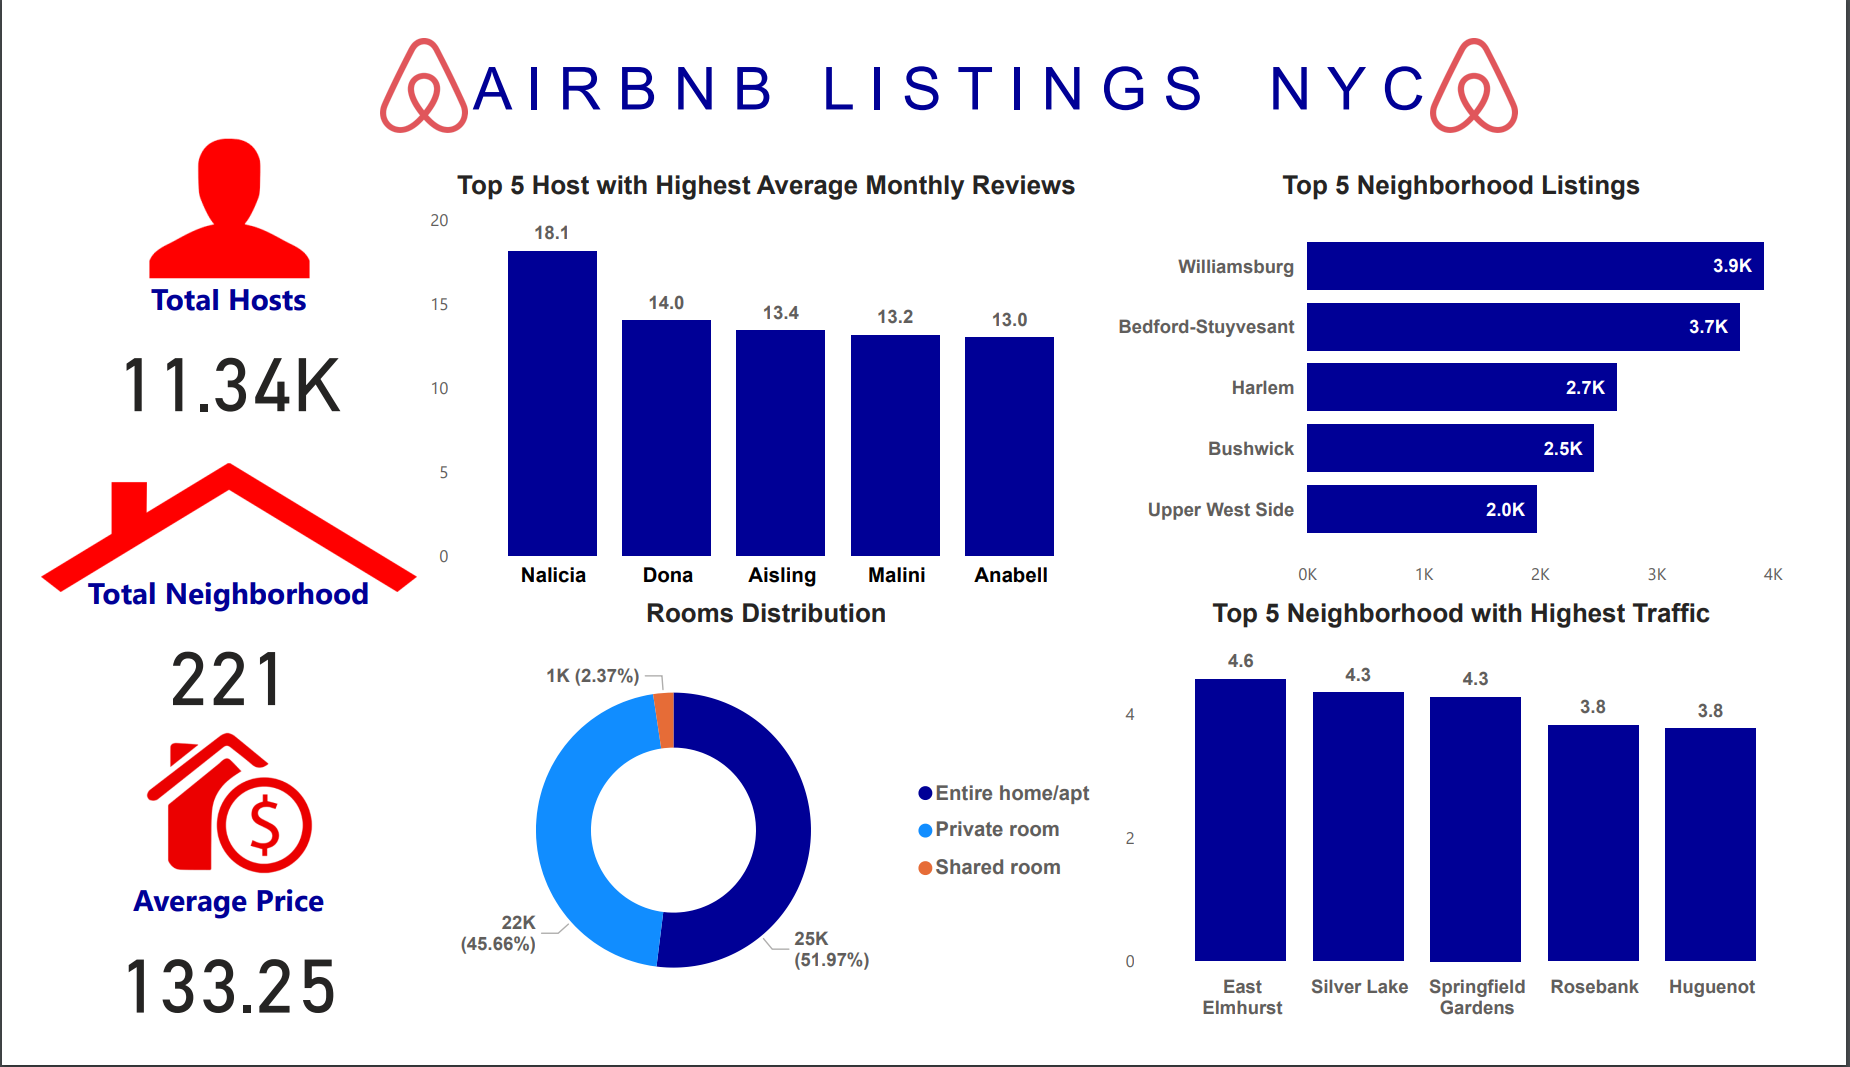

The page's visual inventory and layout, read from the dashboard file:
{"tool":"powerbi","page":{"name":"Page 1","canvas":[1280,720],"ordinal":0},"visuals":[{"type":"card","title":"Total Neighborhood","fields":{"Values":["neighbourhood_traffic.neighbourhood"]},"box":[0,389.3,279.9,109.8],"z":0},{"type":"card","title":"Average Price","fields":{"Values":["Area_info.avg_price"]},"box":[0,610.6,279.9,109.8],"z":1000},{"type":"card","title":"Total Hosts","fields":{"Values":["Busy_host.host_name"]},"box":[0,177,279.9,109.8],"z":2000},{"type":"clusteredColumnChart","title":"Top 5 Host with Highest Average Monthly Reviews","fields":{"Category":["Busy_host.host_name"],"Y":["Busy_host.avg_reviews_per_month"]},"box":[280,100.3,494,308.2],"z":3000},{"type":"barChart","title":"Top 5 Neighborhood Listings","fields":{"Y":["Area_info.listings_count"],"Category":["Area_info.neighbourhood"]},"box":[774.1,100.3,506.3,308.2],"z":4000},{"type":"donutChart","title":"Rooms Distribution","fields":{"Category":["Rooms.room_type"],"Y":["Rooms.rooms"]},"box":[280,408.4,494,311.8],"z":5000},{"type":"columnChart","title":"Top 5 Neighborhood with Highest Traffic","fields":{"Y":["neighbourhood_traffic.avg_reviews"],"Category":["neighbourhood_traffic.neighbourhood"]},"box":[774.1,408.4,506.3,310.6],"z":6000},{"type":"textbox","box":[310.6,12.2,704.4,78.3],"z":7000},{"type":"image","box":[974.6,0,122.3,78.3],"z":8000},{"type":"image","box":[218.9,0,122.3,78.3],"z":9000},{"type":"image","box":[0,287.4,280,139.4],"z":10000},{"type":"image","box":[0,489.1,280,133.3],"z":11000},{"type":"image","box":[0,64.8,280,124.7],"z":12000}]}

Visuals, with their boxes in screenshot pixels (x1, y1, x2, y2), scaled from the page's 1280x720 canvas onto the 1850x1067 screenshot:
"Total Neighborhood" card: 0, 577, 405, 740
"Average Price" card: 0, 905, 405, 1066
"Total Hosts" card: 0, 262, 405, 425
"Top 5 Host with Highest Average Monthly Reviews" clusteredColumnChart: 405, 149, 1119, 605
"Top 5 Neighborhood Listings" barChart: 1119, 149, 1849, 605
"Rooms Distribution" donutChart: 405, 605, 1119, 1066
"Top 5 Neighborhood with Highest Traffic" columnChart: 1119, 605, 1849, 1066
textbox: 449, 18, 1467, 134
image: 1409, 0, 1585, 116
image: 316, 0, 493, 116
image: 0, 426, 405, 632
image: 0, 725, 405, 922
image: 0, 96, 405, 281
